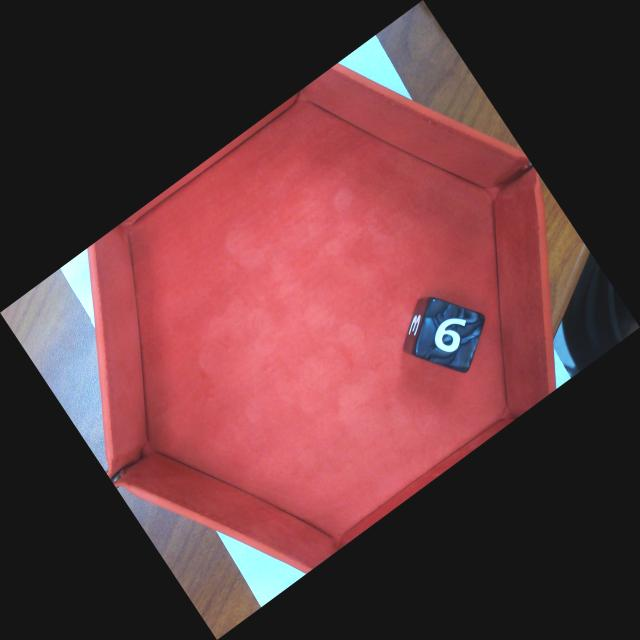dice: (411, 295, 487, 375)
